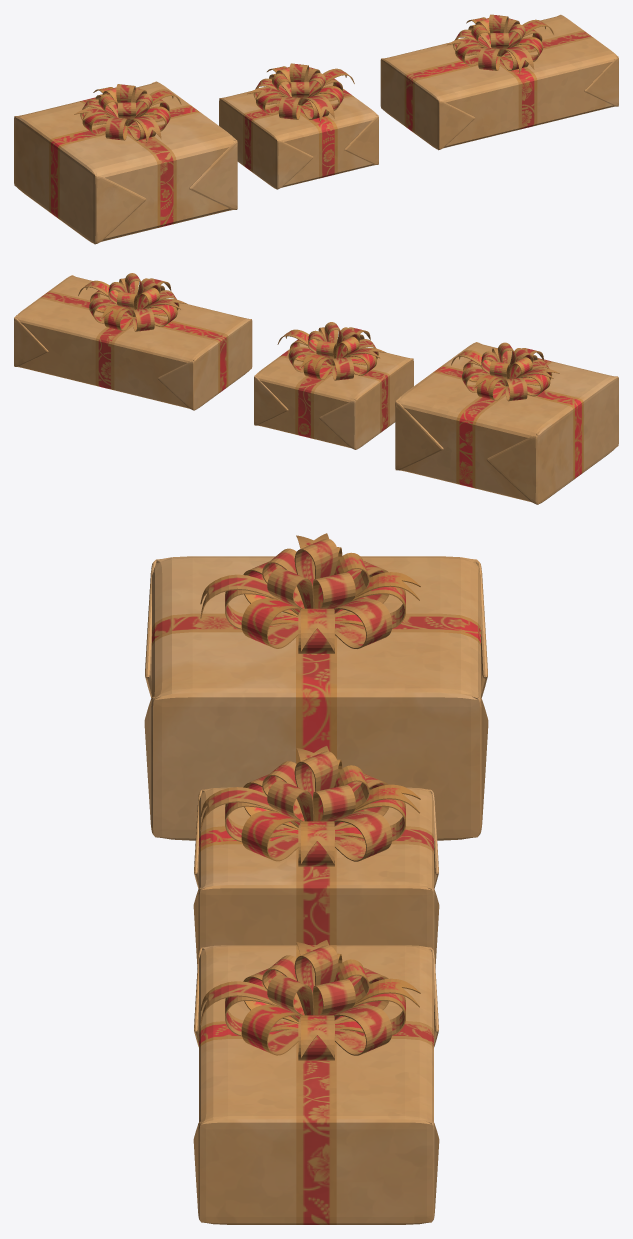
The model's file is Gift Box.fbx.
3 renders of one model, top to bottom at view 1: azimuth 30°, elevation 25°; view 2: azimuth 150°, elevation 25°; view 3: azimuth 270°, elevation 25°, orthographic. The views are drawn at different scales.
Parts seen in each view (by area): view 1: KuJ CT Gift Box 003.Shape, KuJ CT Gift Box 002.Shape, KuJ CT Gift Box 001.Shape; view 2: KuJ CT Gift Box 003.Shape, KuJ CT Gift Box 002.Shape, KuJ CT Gift Box 001.Shape; view 3: KuJ CT Gift Box 003.Shape, KuJ CT Gift Box 002.Shape, KuJ CT Gift Box 001.Shape.
Part boxes in pixels (box(x1,y1,x2,y2)): KuJ CT Gift Box 003.Shape: box(14, 81, 237, 244); KuJ CT Gift Box 002.Shape: box(380, 14, 618, 150); KuJ CT Gift Box 001.Shape: box(219, 63, 378, 189); KuJ CT Gift Box 003.Shape: box(395, 342, 618, 504); KuJ CT Gift Box 002.Shape: box(14, 273, 252, 410); KuJ CT Gift Box 001.Shape: box(254, 322, 413, 449); KuJ CT Gift Box 003.Shape: box(144, 533, 488, 840); KuJ CT Gift Box 002.Shape: box(193, 940, 439, 1224); KuJ CT Gift Box 001.Shape: box(193, 746, 439, 967).
Size of the model in its own units: 244 by 49.91 by 67.75.
2 materials, 2 textured.
